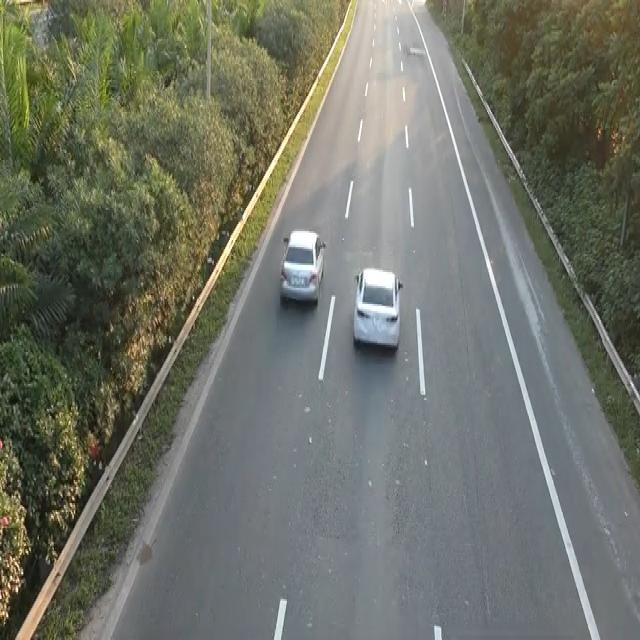bus: (351, 263, 403, 352), (278, 225, 327, 308)
